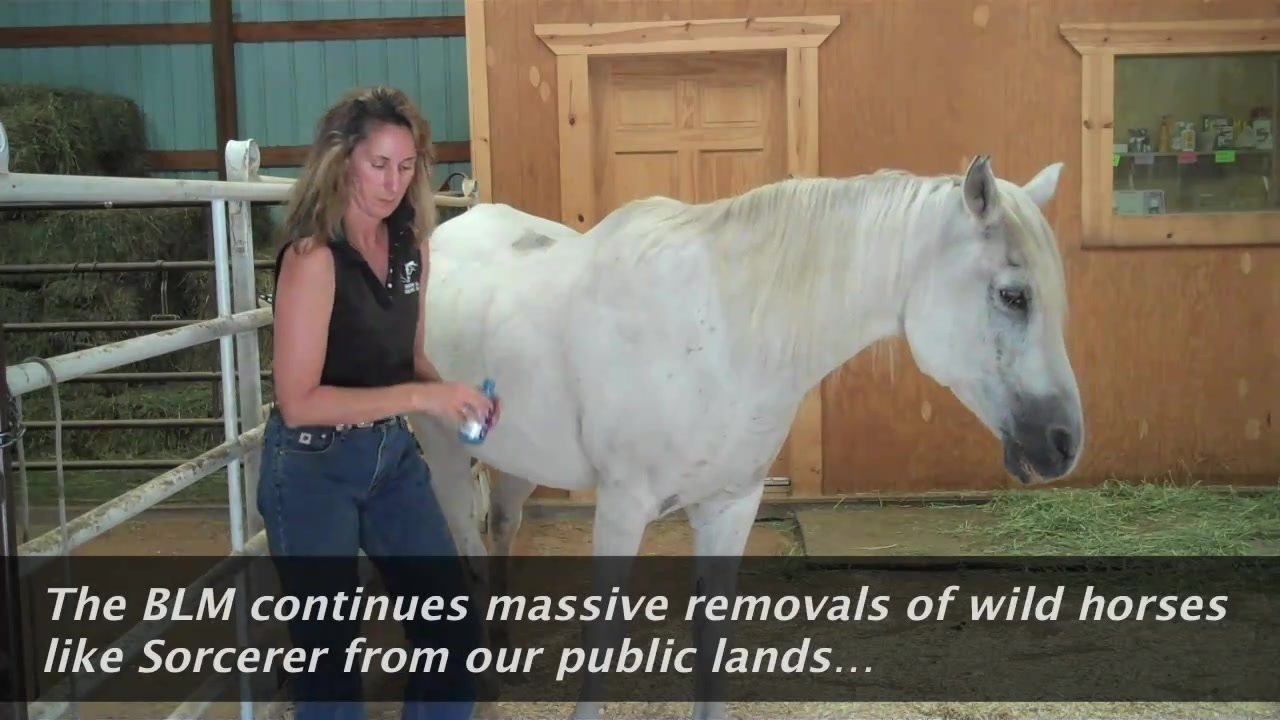horse: (407, 153, 1088, 720)
